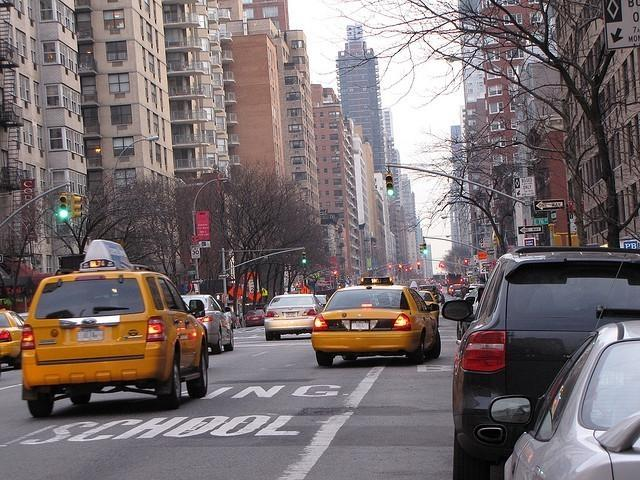car: (448, 250, 640, 471), (21, 238, 209, 420), (504, 320, 640, 480), (310, 276, 442, 368), (182, 294, 236, 352), (262, 294, 324, 342), (0, 308, 22, 372), (410, 280, 439, 325), (246, 309, 266, 326)
